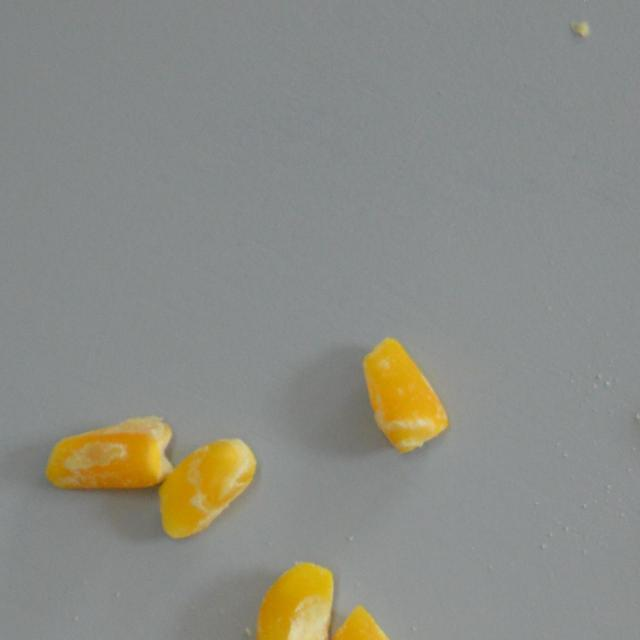no_canjicado: (252, 560, 332, 640)
pelicula: (362, 335, 450, 453), (157, 436, 257, 539), (44, 415, 175, 490), (332, 604, 420, 640)
